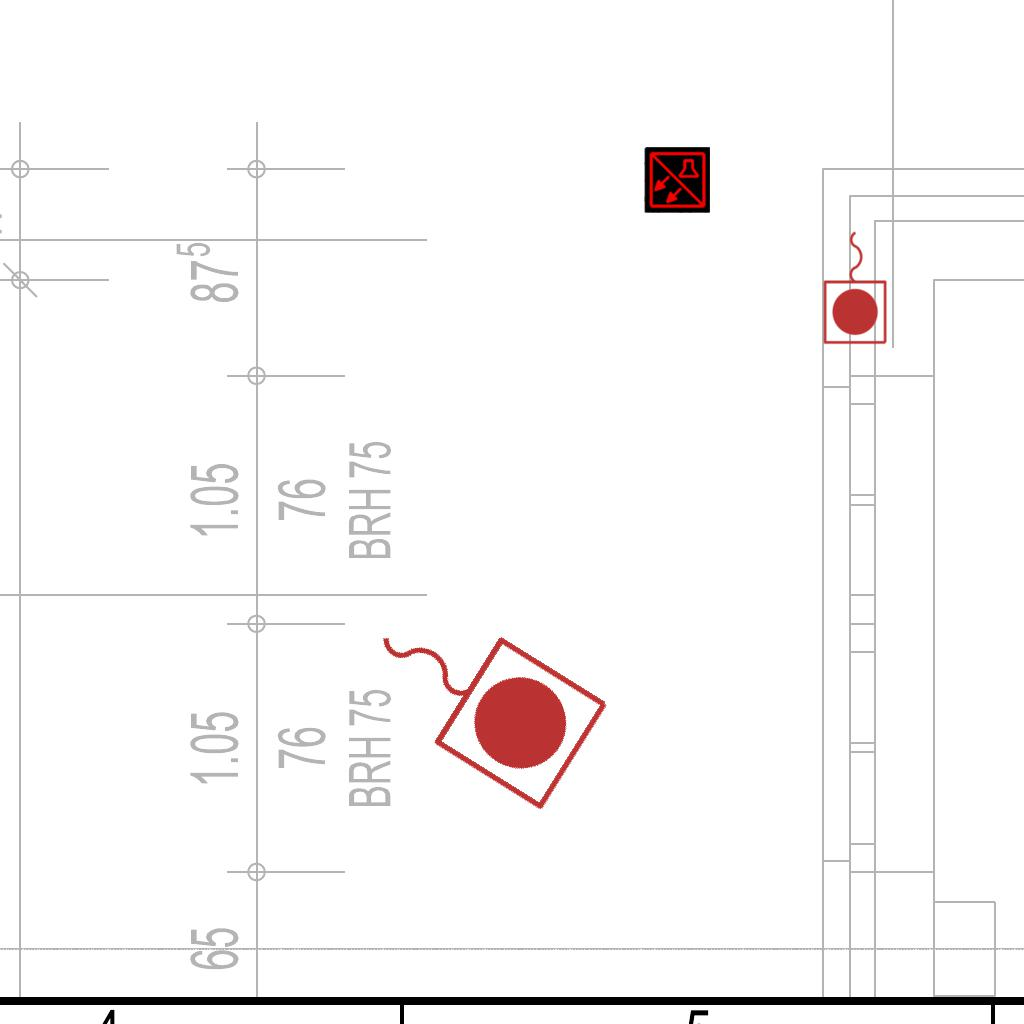OKW_Multisensormelder_(Kombination_optischer_Rauch-Kahlenmonoxid_Waerme-Melder): (644, 147, 710, 213)
Zugtaster: (337, 569, 621, 821), (820, 226, 892, 348)
